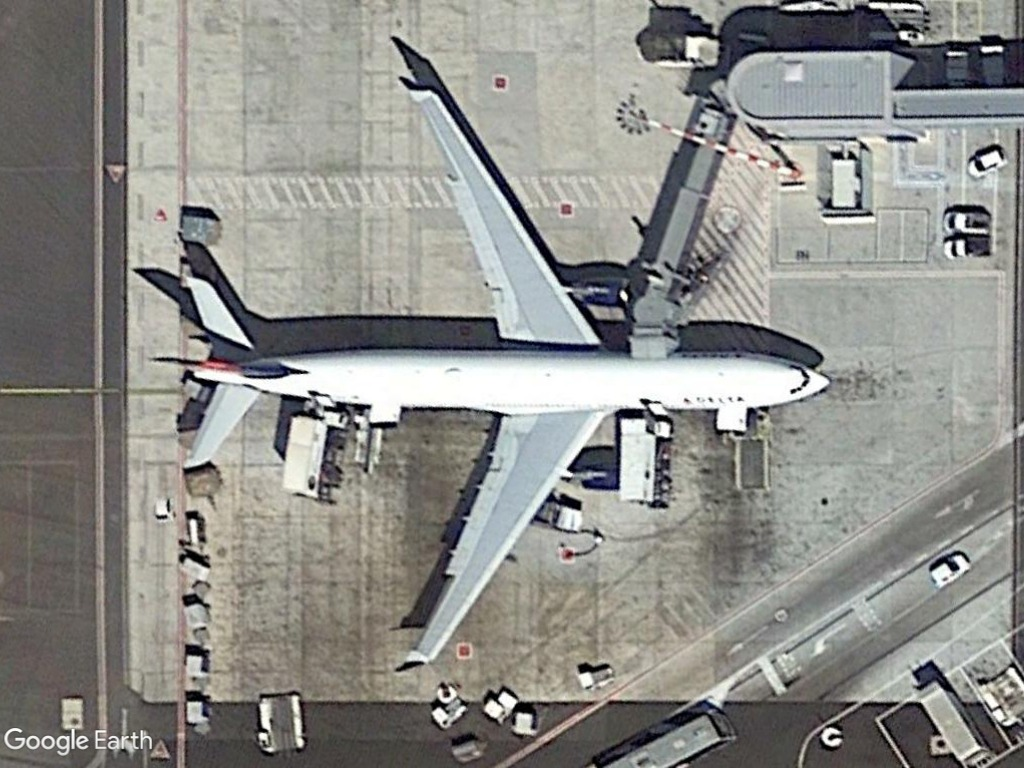airliner: (184, 58, 837, 679)
car: (924, 547, 972, 592), (960, 141, 1008, 180)
other: (936, 234, 995, 264), (939, 206, 992, 234)
